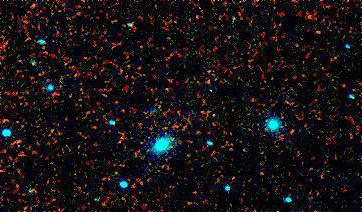star: (150, 77, 180, 107)
